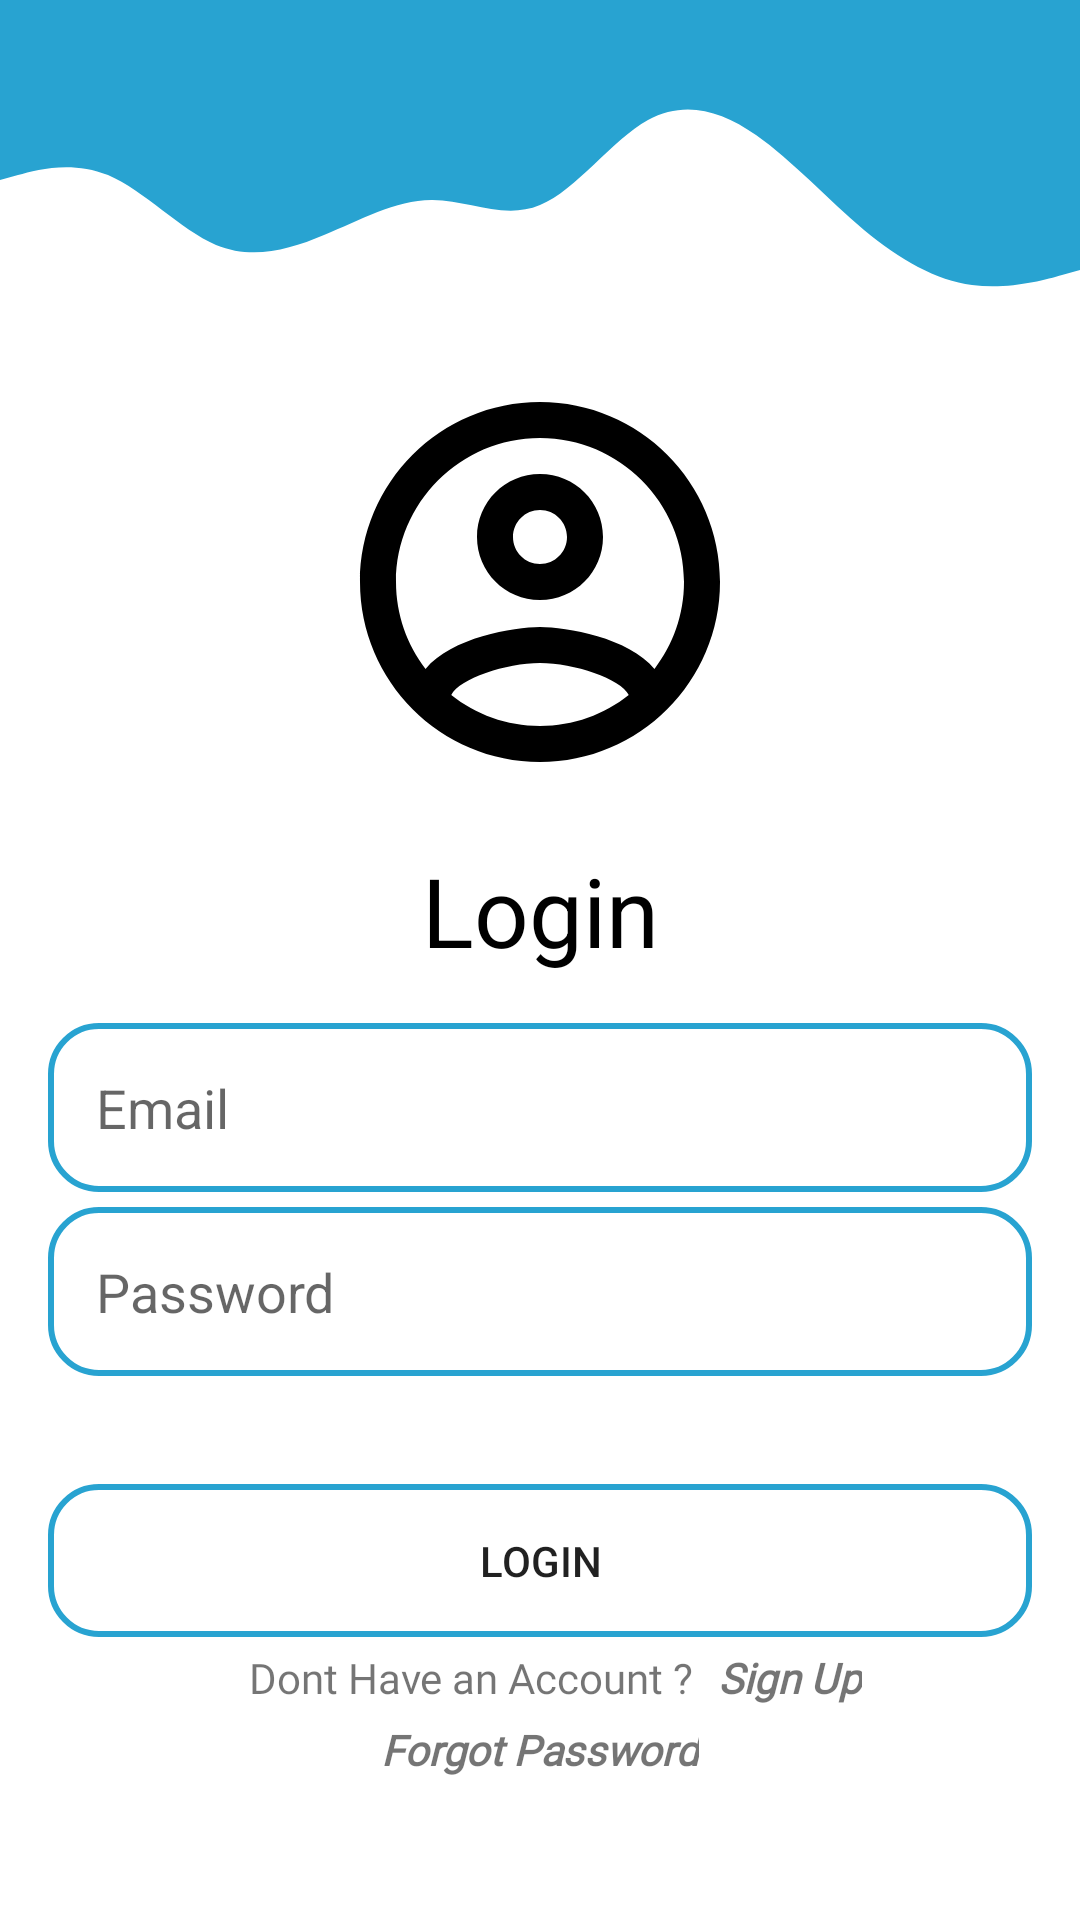

Icon bounding boxes for this 1080 x 1920 phone screenshot, format (x1=x1, y1=y1, x2=x2, y2=y2):
account circle: (x1=360, y1=402, x2=720, y2=762)
